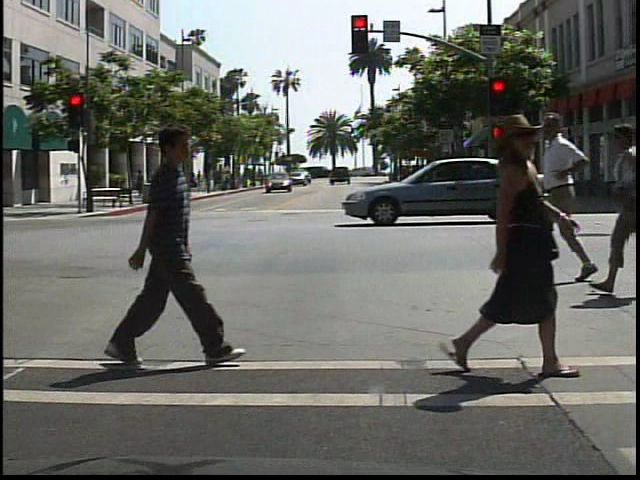person: (454, 109, 575, 377), (110, 120, 228, 367), (534, 110, 607, 295), (165, 157, 198, 219), (129, 163, 150, 211)
